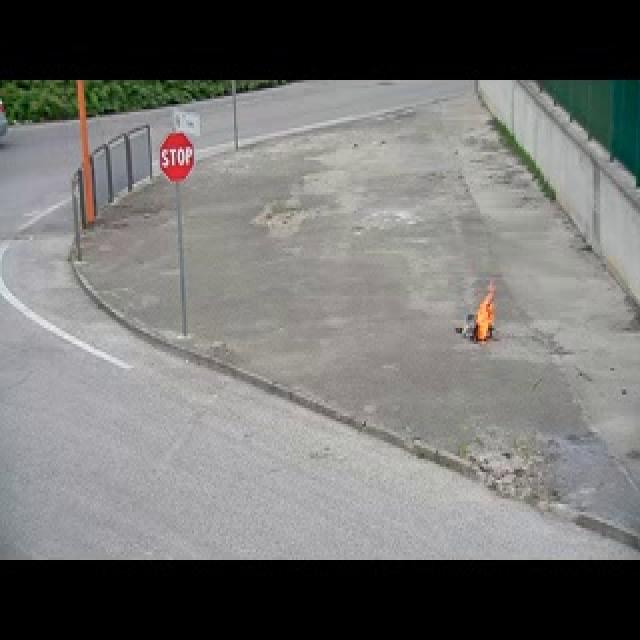fire: (470, 284, 499, 348)
